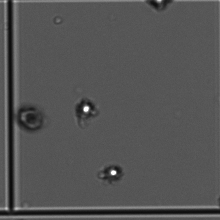Dead Cell: (13, 104, 47, 132)
Living Cell: (69, 96, 102, 123), (98, 162, 126, 183), (140, 1, 177, 13)
